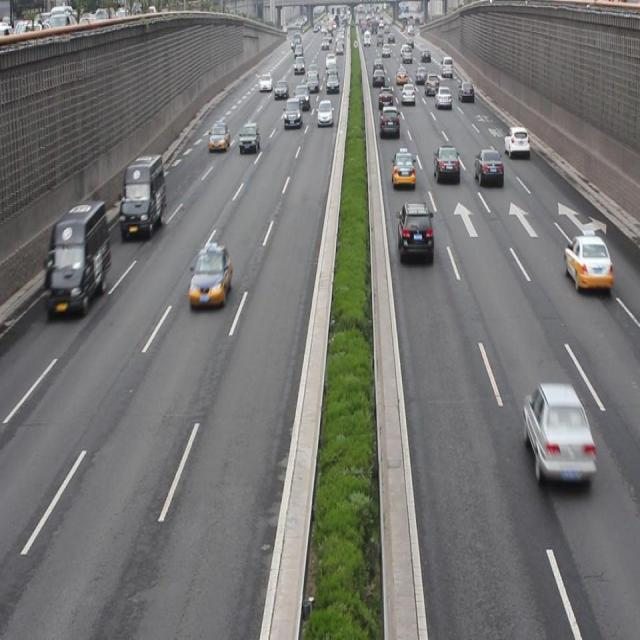car: (524, 381, 596, 481), (562, 233, 611, 291), (188, 245, 233, 302), (397, 200, 434, 261), (432, 143, 460, 185), (474, 147, 504, 186), (390, 149, 414, 190), (503, 125, 529, 157), (239, 121, 260, 154), (209, 120, 230, 150), (283, 97, 302, 129), (316, 98, 333, 125)
truck: (46, 200, 110, 312), (118, 153, 166, 240), (378, 104, 399, 137)
